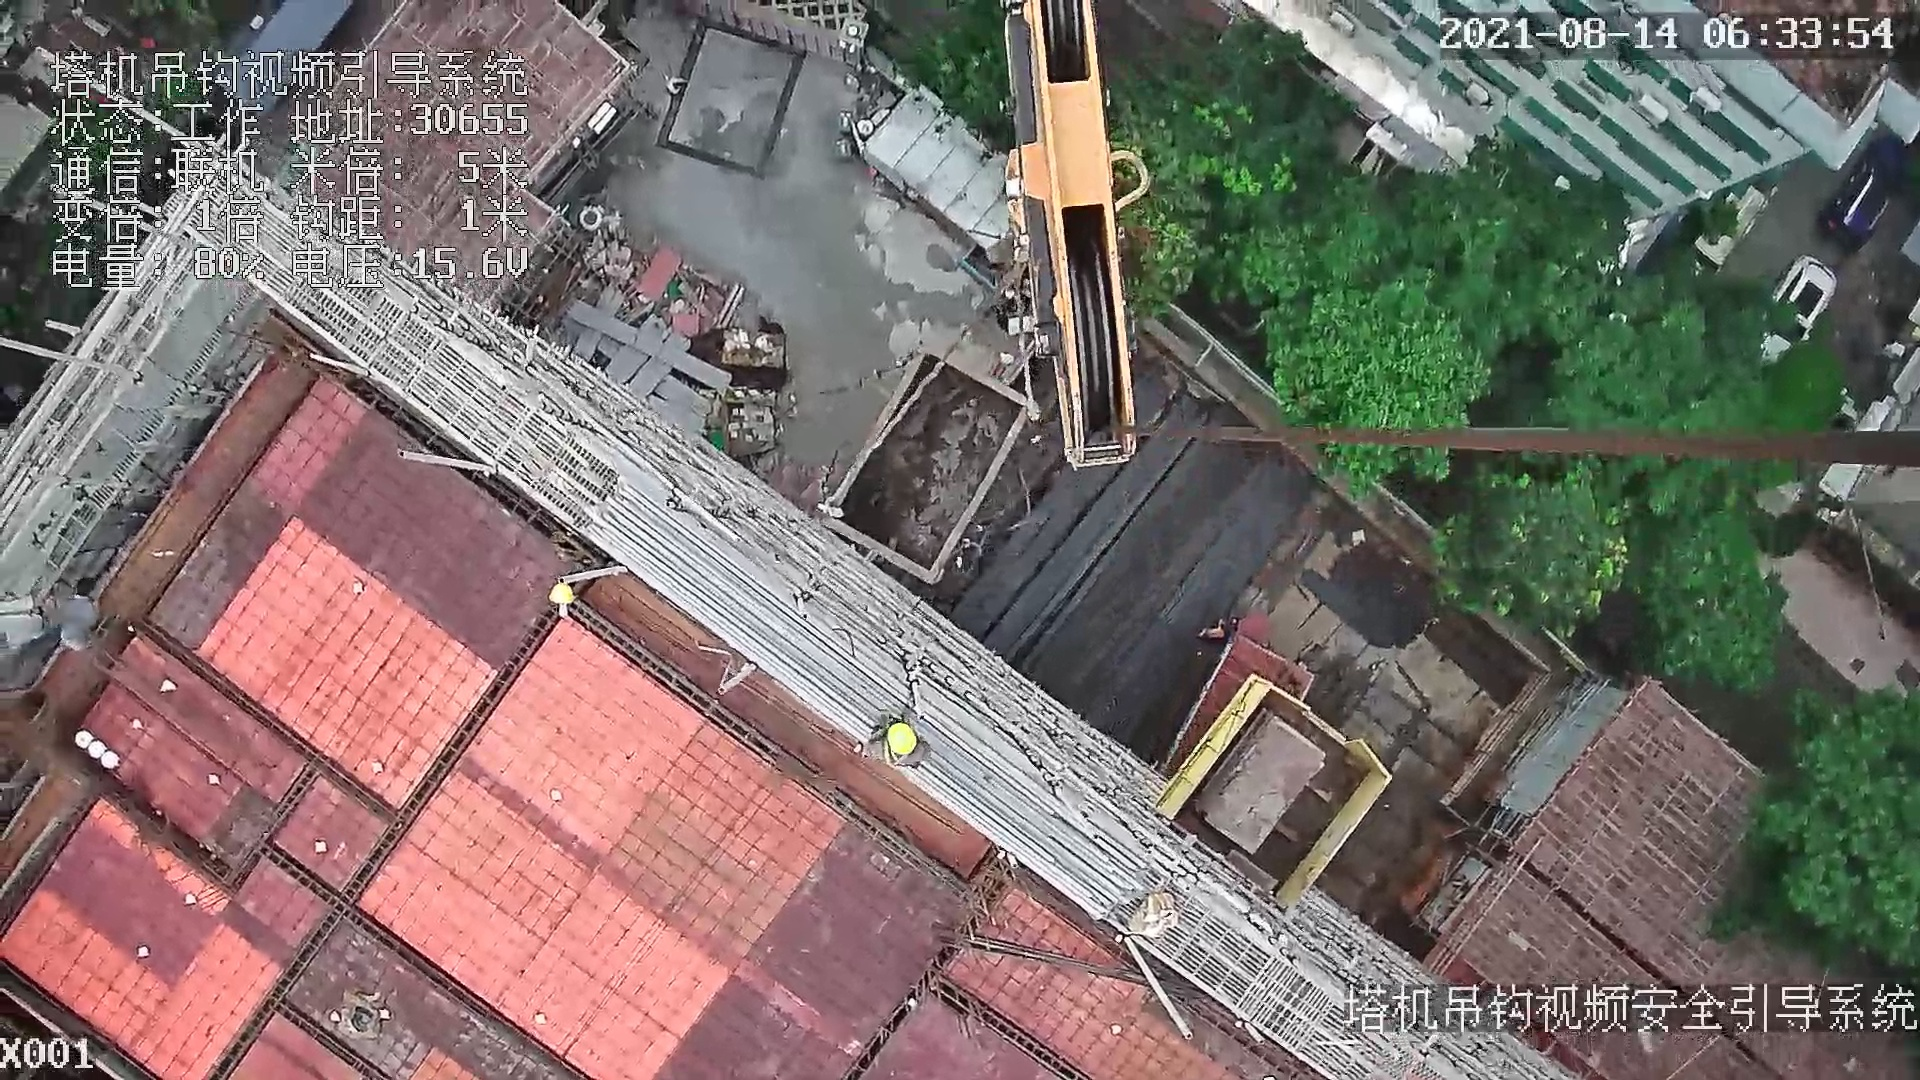helmet: (541, 583, 586, 606), (886, 724, 919, 755)
hook: (996, 3, 1149, 469)
hopper: (818, 336, 1040, 581)
person: (876, 697, 937, 777)
